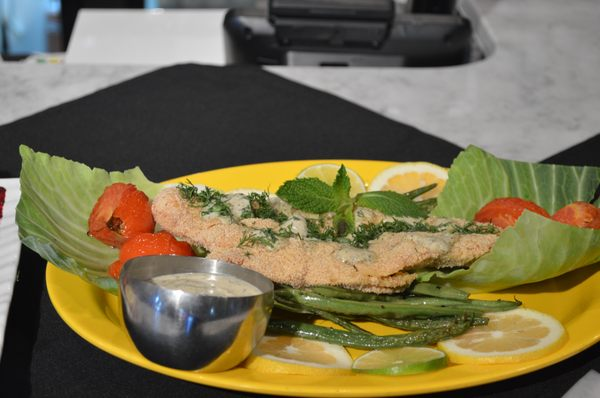sushi: (120, 254, 275, 373)
